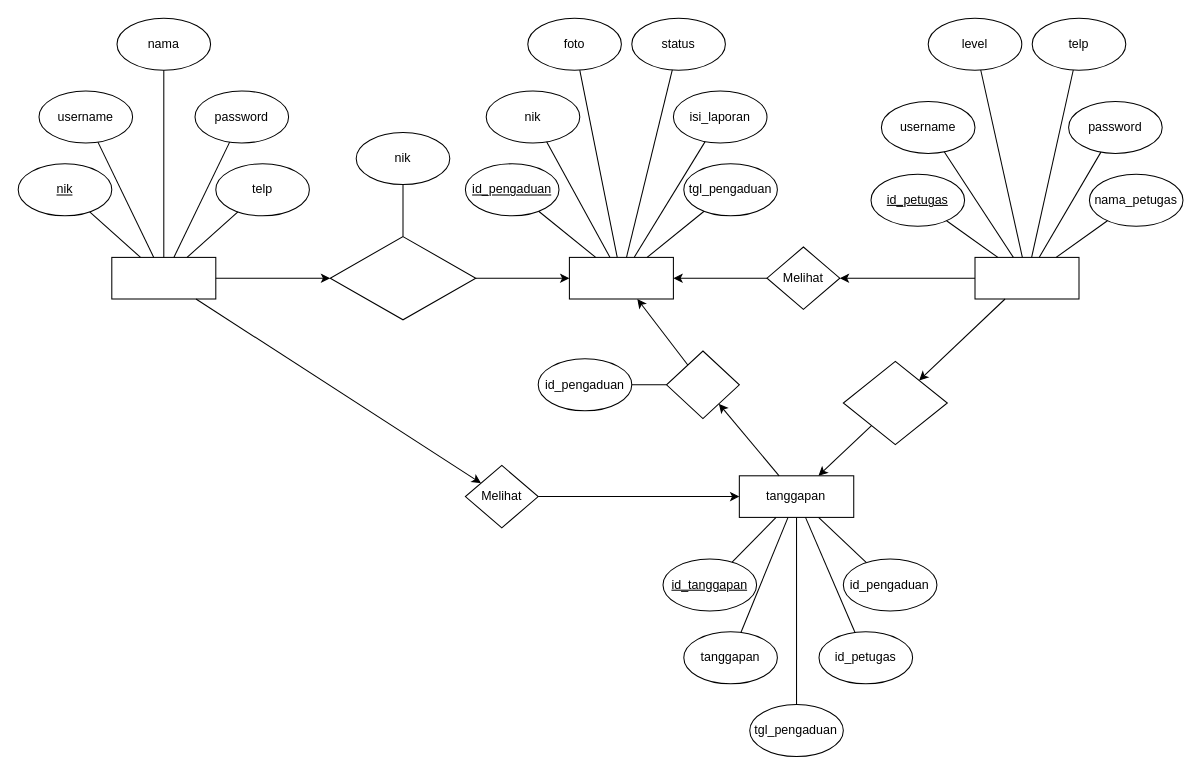
Some shapes in this 1201 by 775 pixel diagram are drawn without their labels. Each missing label, with the centre of its shape:
masyarakat: the point at 163,277
Menjawab: the point at 702,384
Menulis laporan pengaduan: the point at 402,278
Menulis Tanggapan: the point at 894,402
pengaduan: the point at 620,277
petugas: the point at 1026,277
